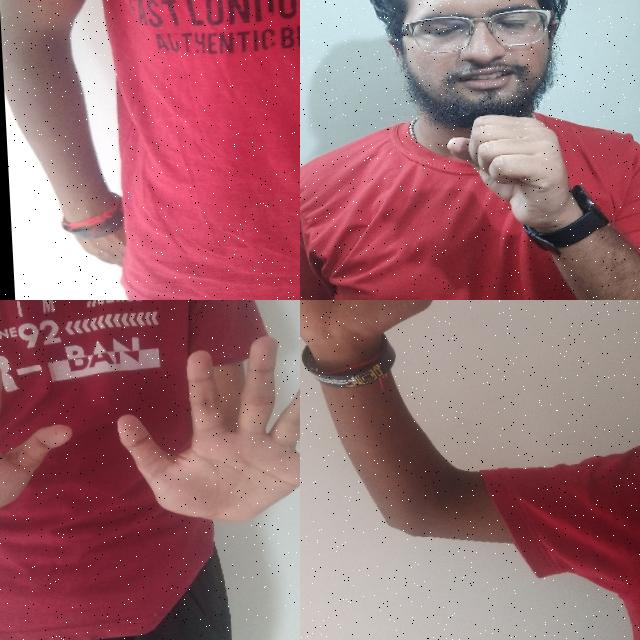Fist Mouth: (365, 0, 606, 248)
Moutza: (105, 326, 300, 552), (300, 300, 494, 389), (0, 343, 81, 546)
